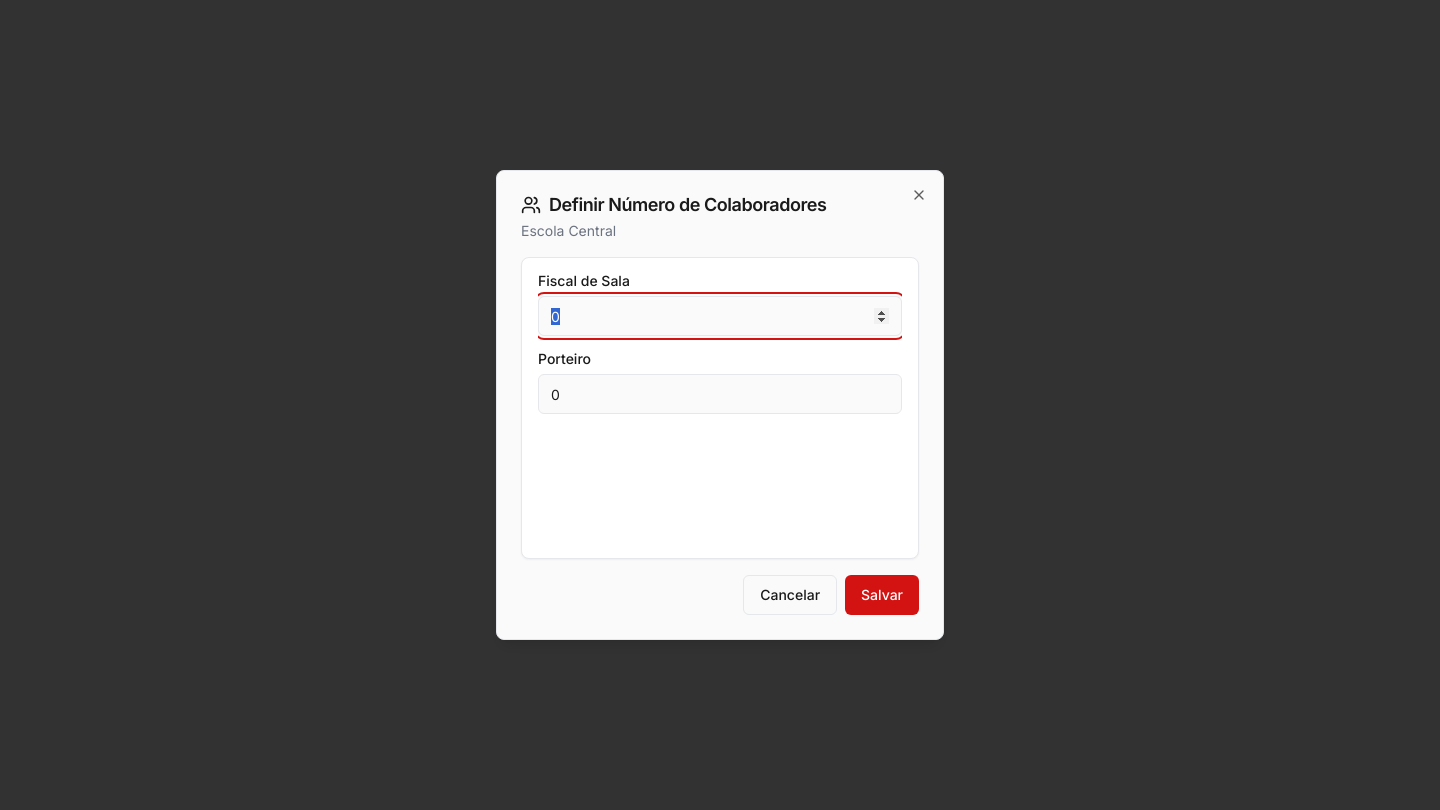
Test: MetaColaboradoresDialog (interação) › preenchimento › digitar '-5' vira 5: o sinal não passa pelo campo numérico
This screenshot has width=1440, height=810.
Type "-5" into the number field labelled "Fiscal de Sala". click: (720, 316)
box: [538,296,902,336]
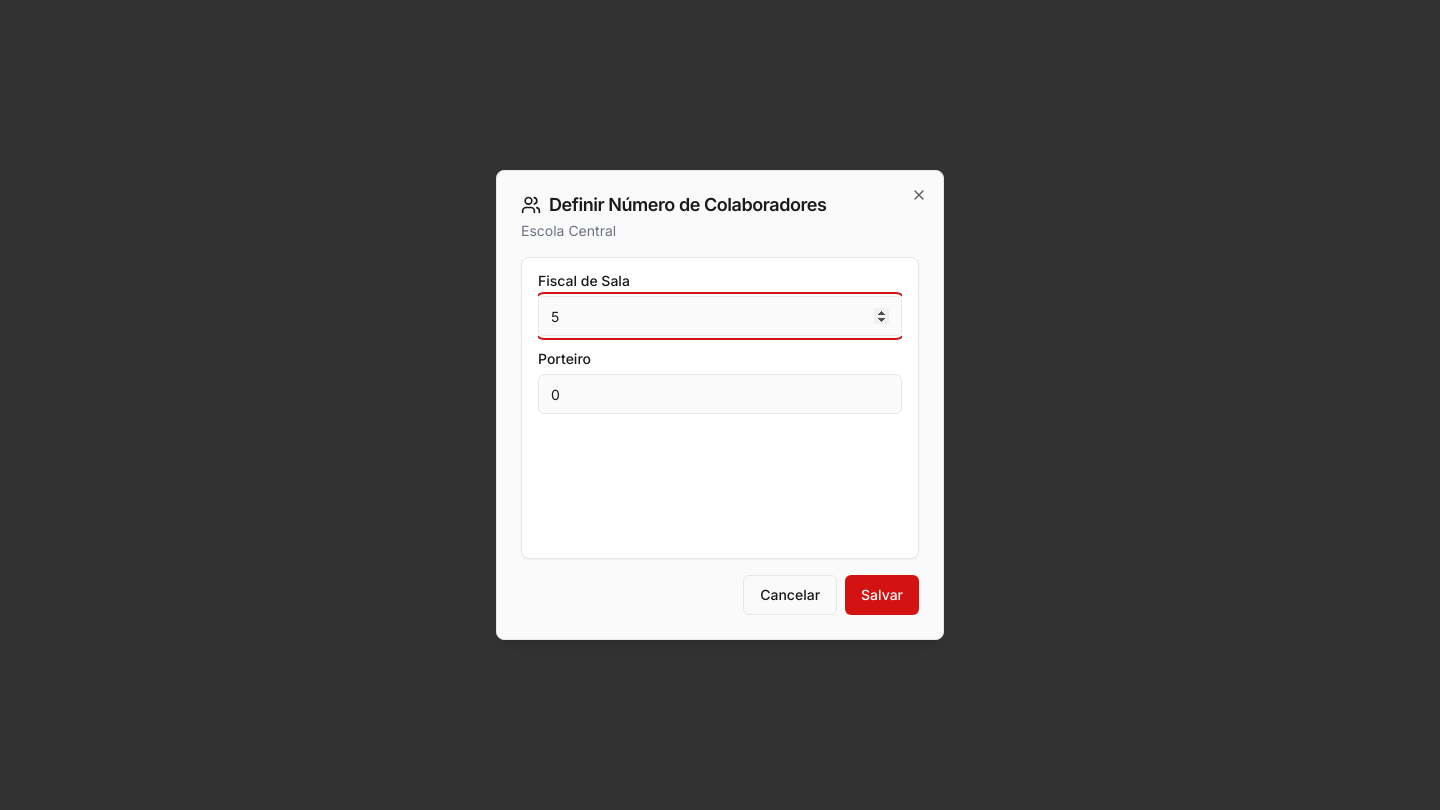
Expected: the number field labelled "Fiscal de Sala" holds "5", [538,296,902,336]
